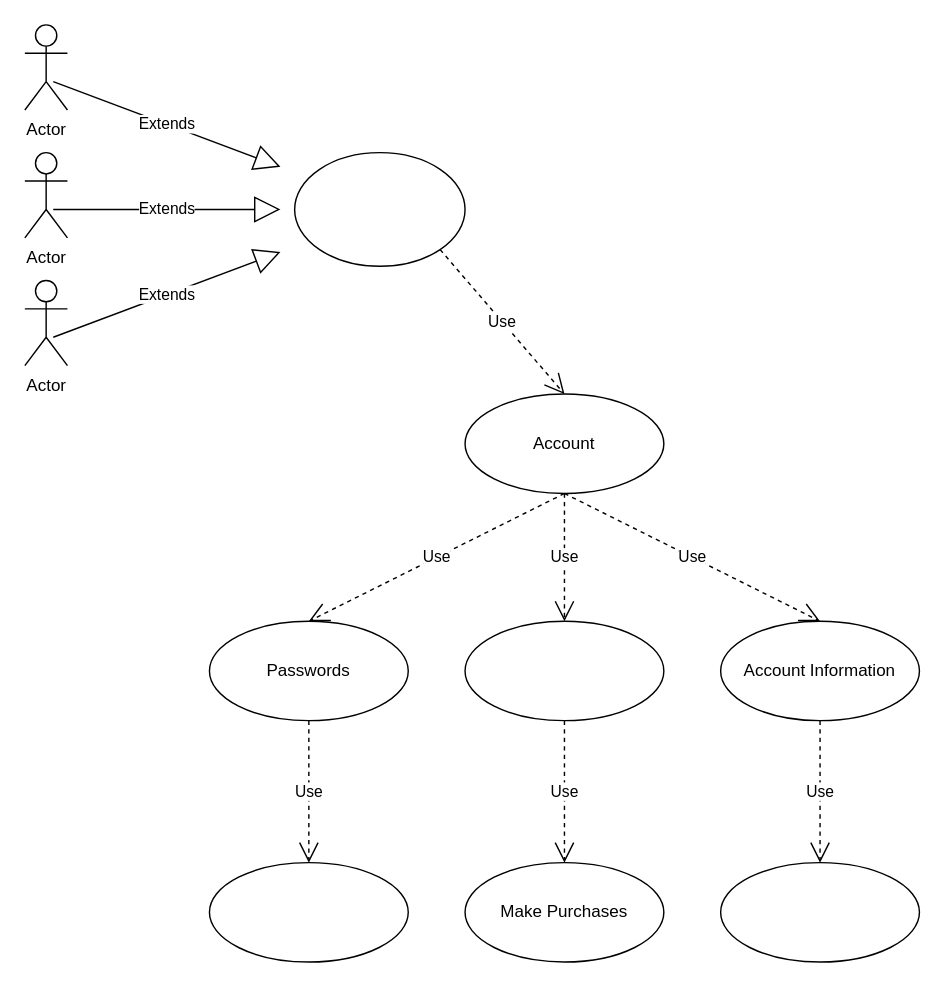
This 944x987 diagram has some shape labels left out. The shapes that lost their labels are listed below. From the top down, each one's box as (x1, y1, x2, y2) in pixels, then its label:
(293, 151, 465, 266): Password
(464, 620, 664, 721): Credit Card Info
(208, 861, 408, 962): Access Other Accounts
(719, 861, 919, 962): Make Changes to Accounts
